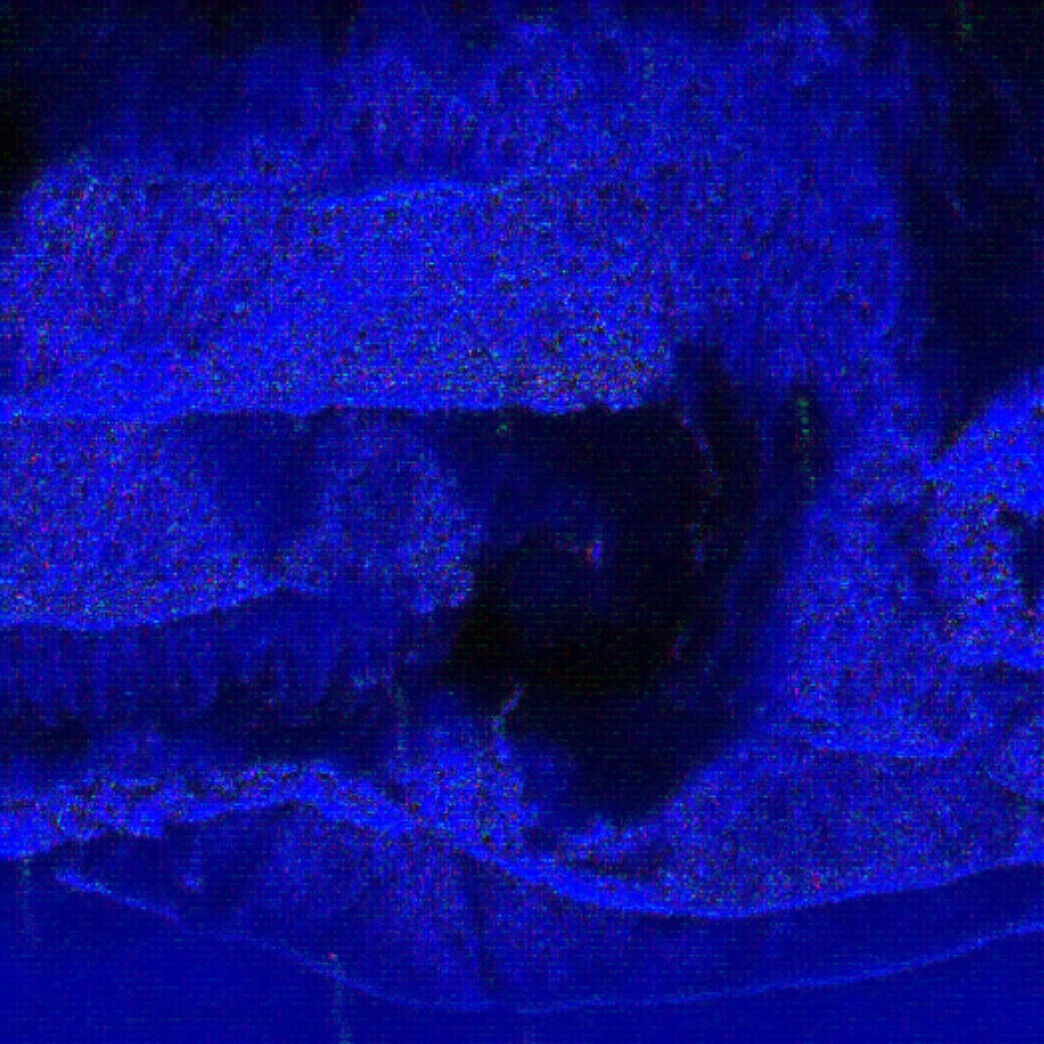rip_current: (415, 136, 905, 864)
